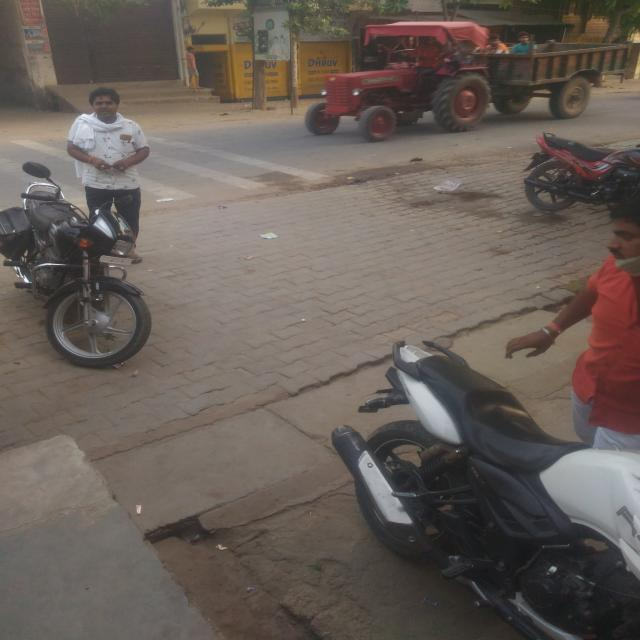tractor_front: (302, 10, 620, 147)
two_wheeler_front: (320, 330, 640, 640), (0, 158, 157, 382)
